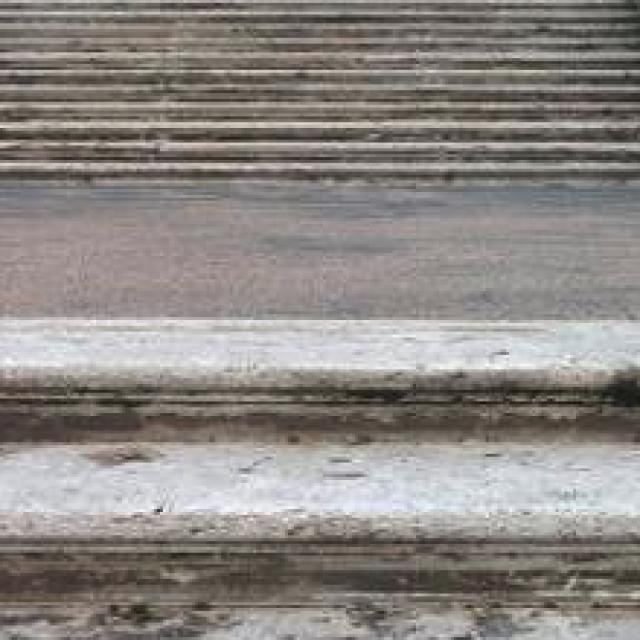upstair: (48, 333, 560, 589)
